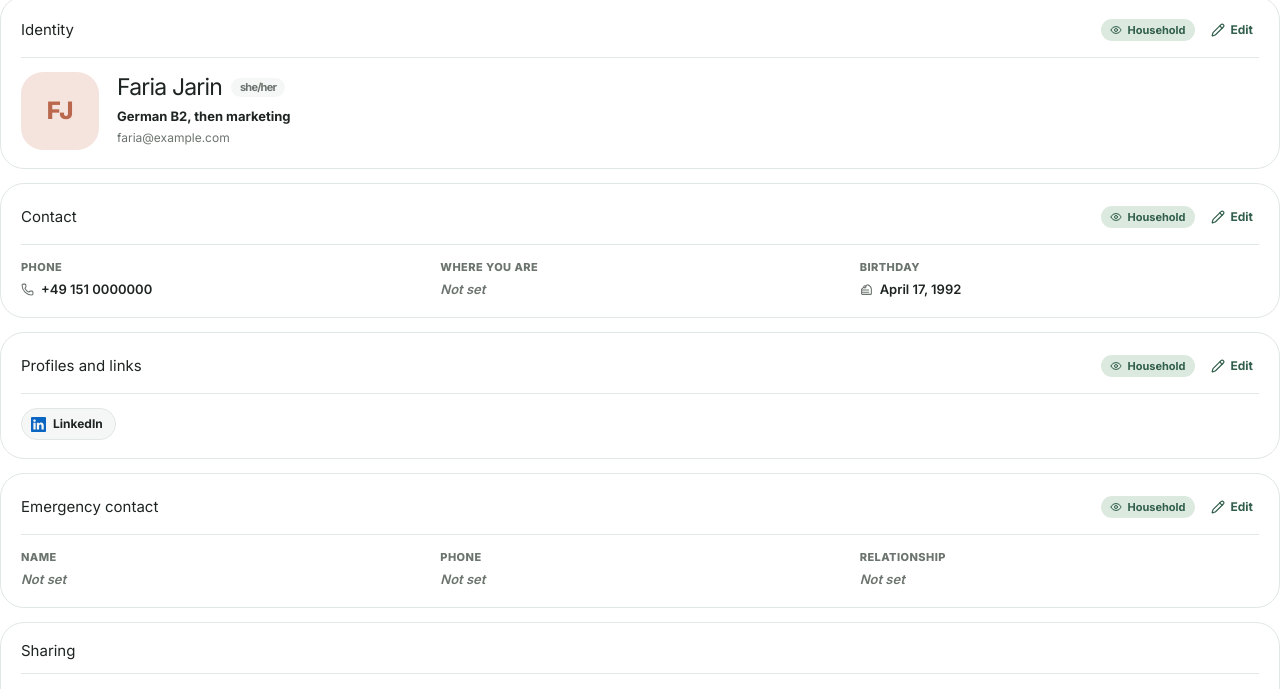
ProfileSettings › opens only the section asked for
expect the heading "Faria Jarin she/her" is shown: met, box [117, 74, 291, 102]
Click the button with aria-label "Edit identity" at (1232, 30), box [1204, 15, 1259, 45]
(page scrolled)
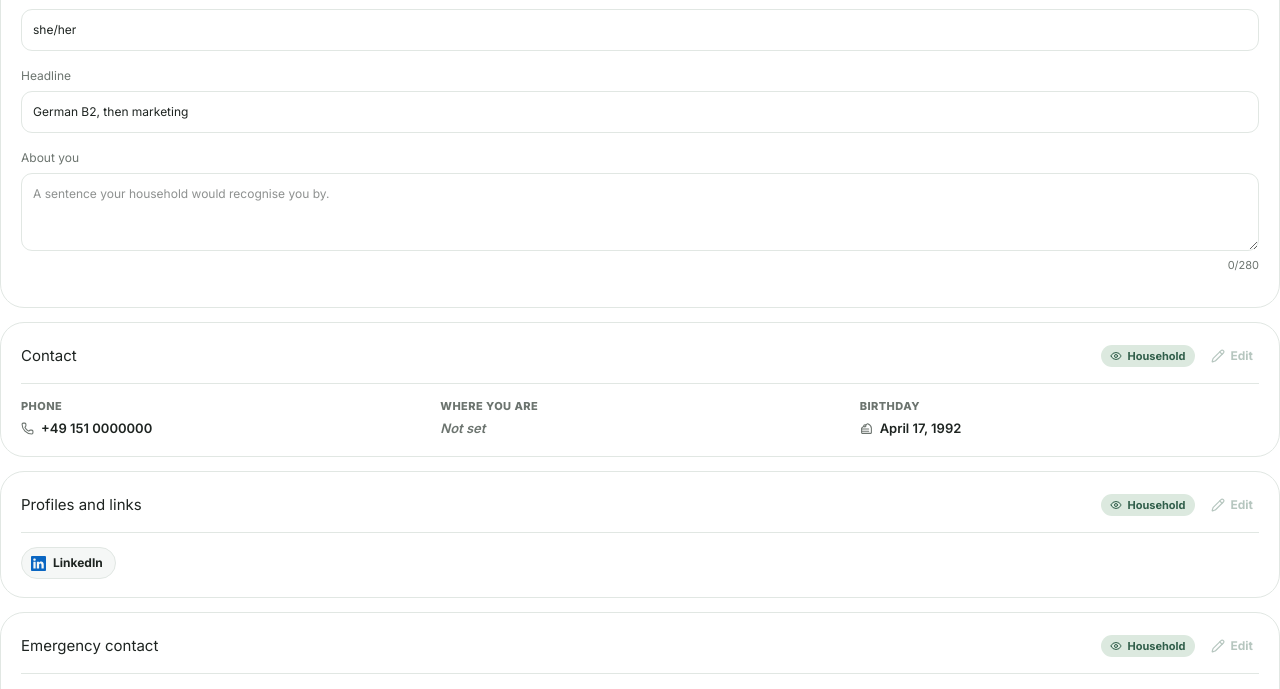
expect the button with aria-label "Edit contact" is disabled: met, box [1204, 341, 1259, 371]
